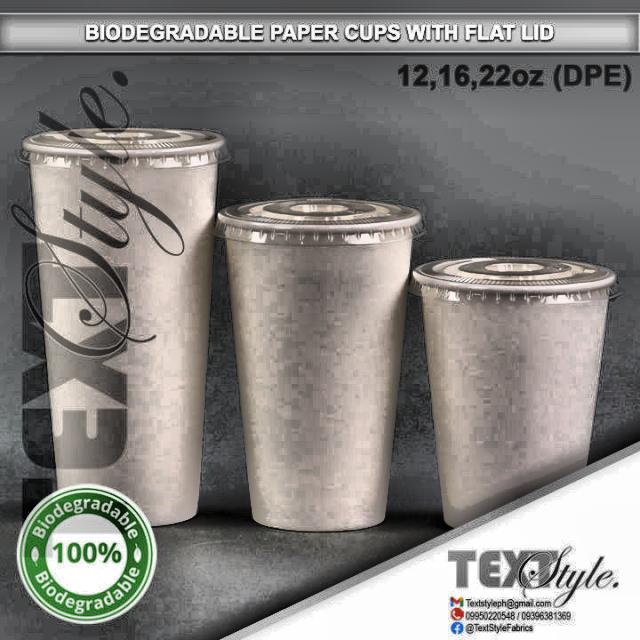Cup: (20, 109, 212, 539), (211, 181, 417, 536), (412, 246, 622, 554)
